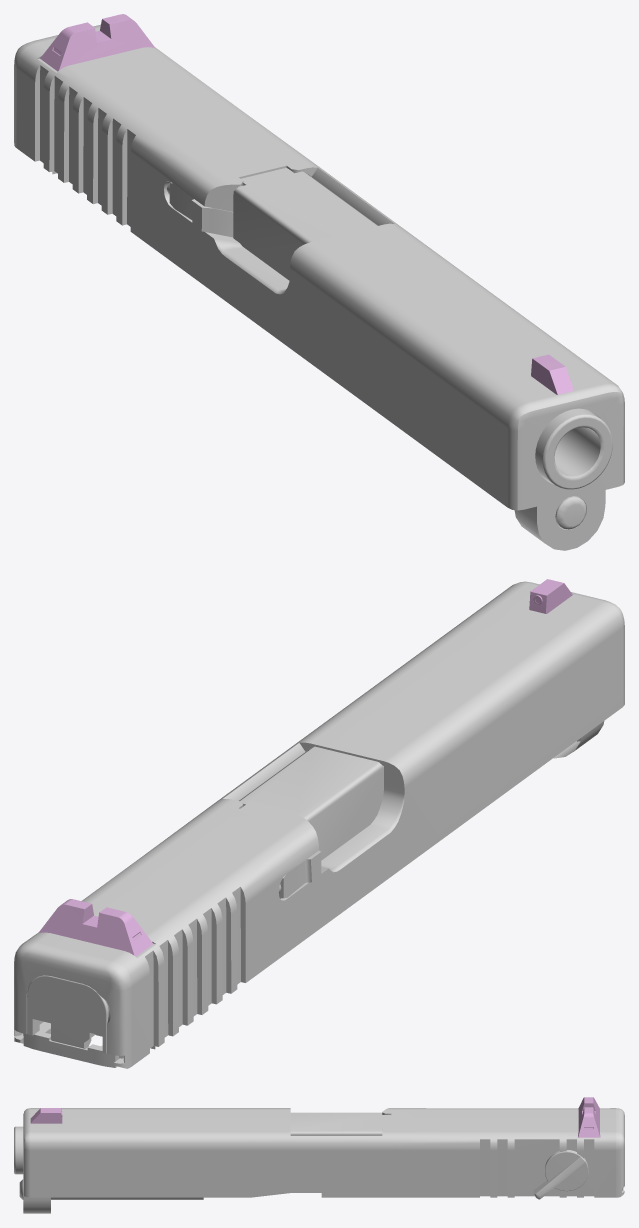
File: Auto Slide.fbx
The picture shows the model from 3 angles, top to bottom: view 1: azimuth 30°, elevation 25°; view 2: azimuth 150°, elevation 25°; view 3: azimuth 270°, elevation 25°; orthographic projection. The views are drawn at different scales.
Visible parts, largest first — view 1: SK_Pistol_G18_LOD0.mo.001; view 2: SK_Pistol_G18_LOD0.mo.001; view 3: SK_Pistol_G18_LOD0.mo.001.
Boxes of the visible parts, left/top/right/bottom form: SK_Pistol_G18_LOD0.mo.001: left=14, top=14, right=624, bottom=550; SK_Pistol_G18_LOD0.mo.001: left=14, top=579, right=624, bottom=1068; SK_Pistol_G18_LOD0.mo.001: left=14, top=1097, right=624, bottom=1213.
Size of the model in its own units: 125 by 842 by 162.
